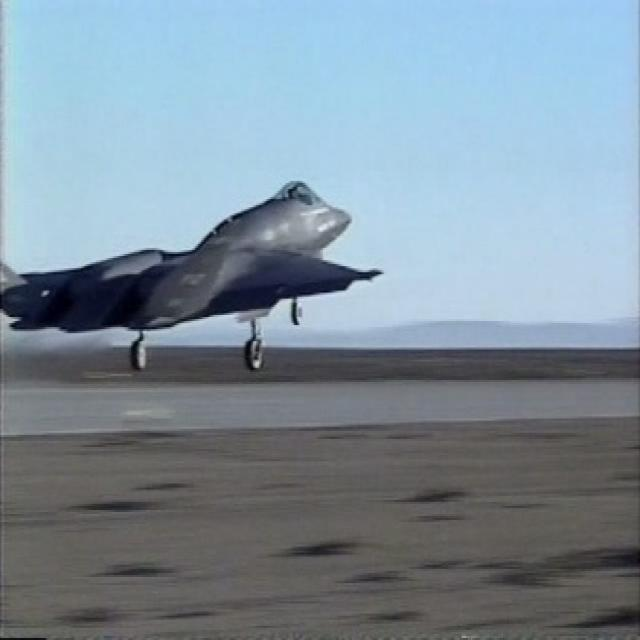MIL_Plane: (1, 179, 385, 374)
